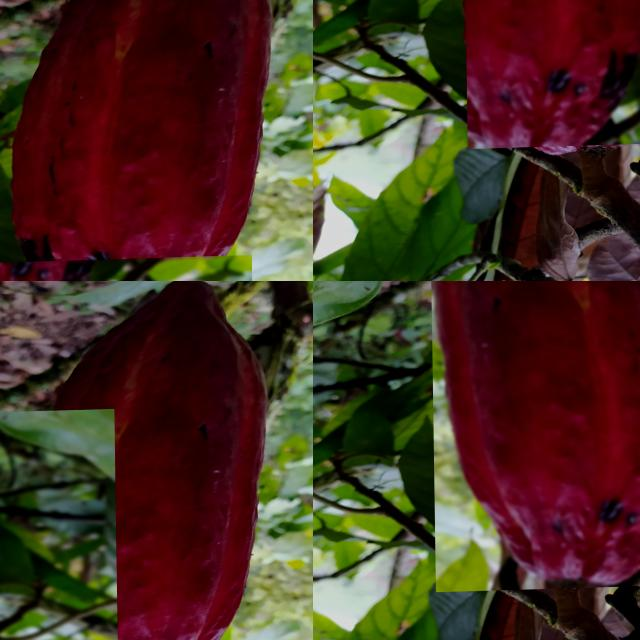Fitoftora: (96, 330, 313, 640), (429, 281, 640, 593), (0, 410, 117, 640)
Monilia: (461, 0, 640, 150)
Sana: (186, 281, 277, 385)
